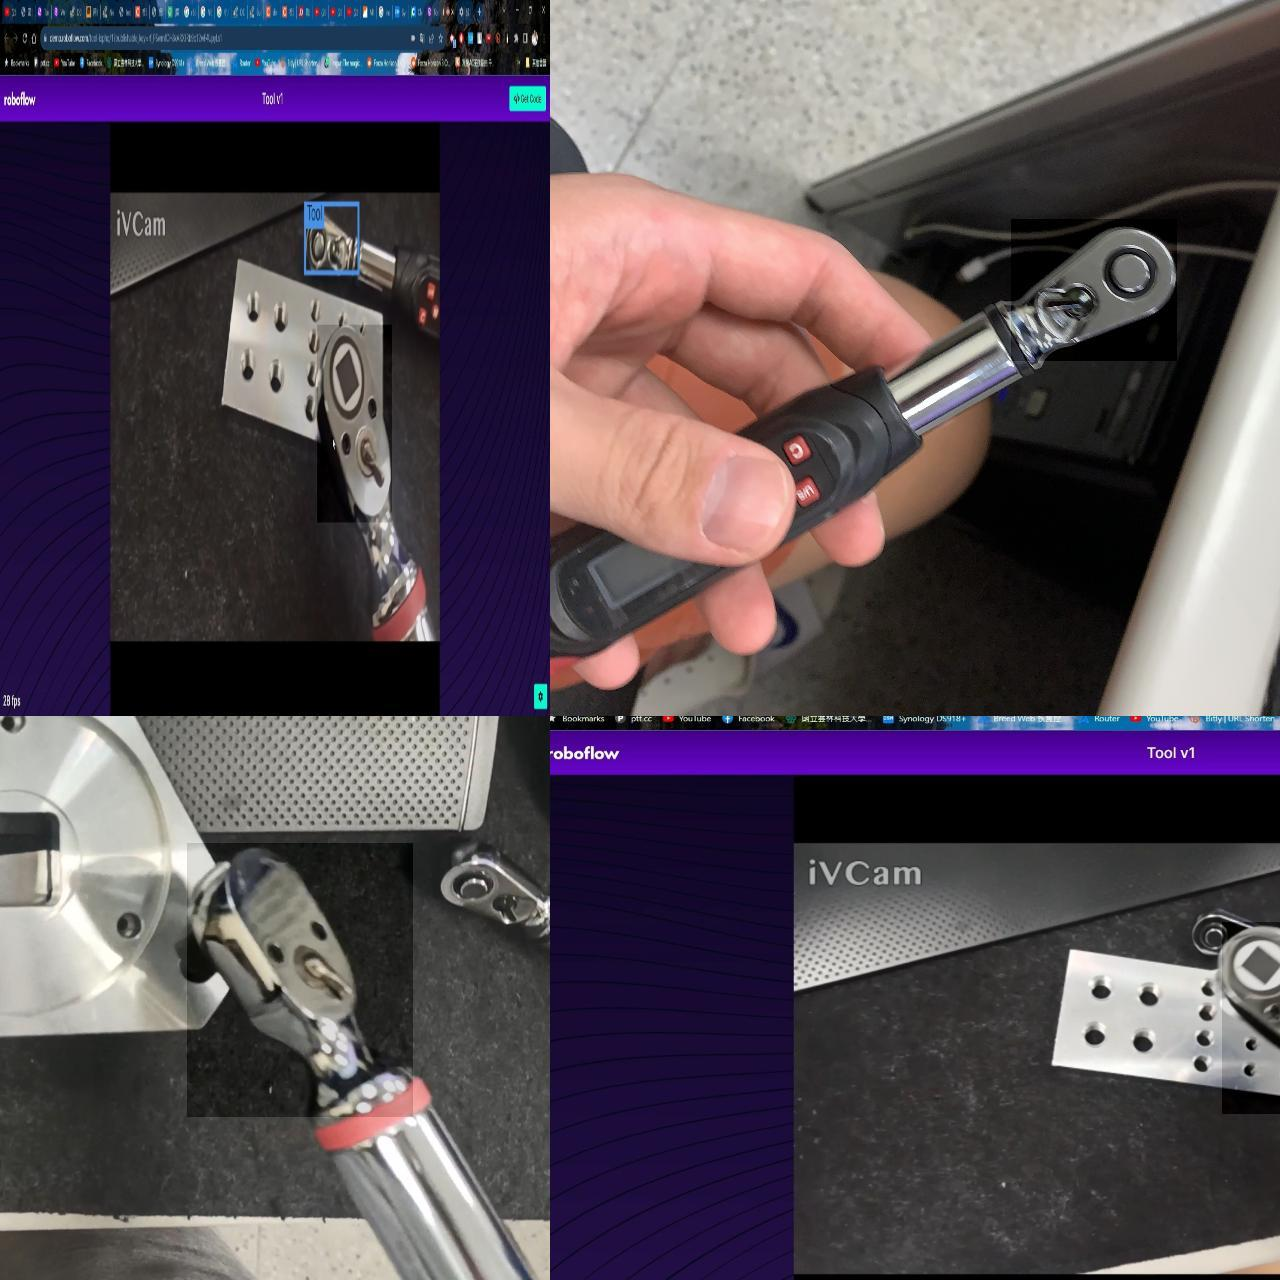Tool: (188, 843, 413, 1117), (1012, 219, 1177, 361), (316, 325, 392, 523), (436, 833, 550, 945), (1223, 922, 1280, 1114)
